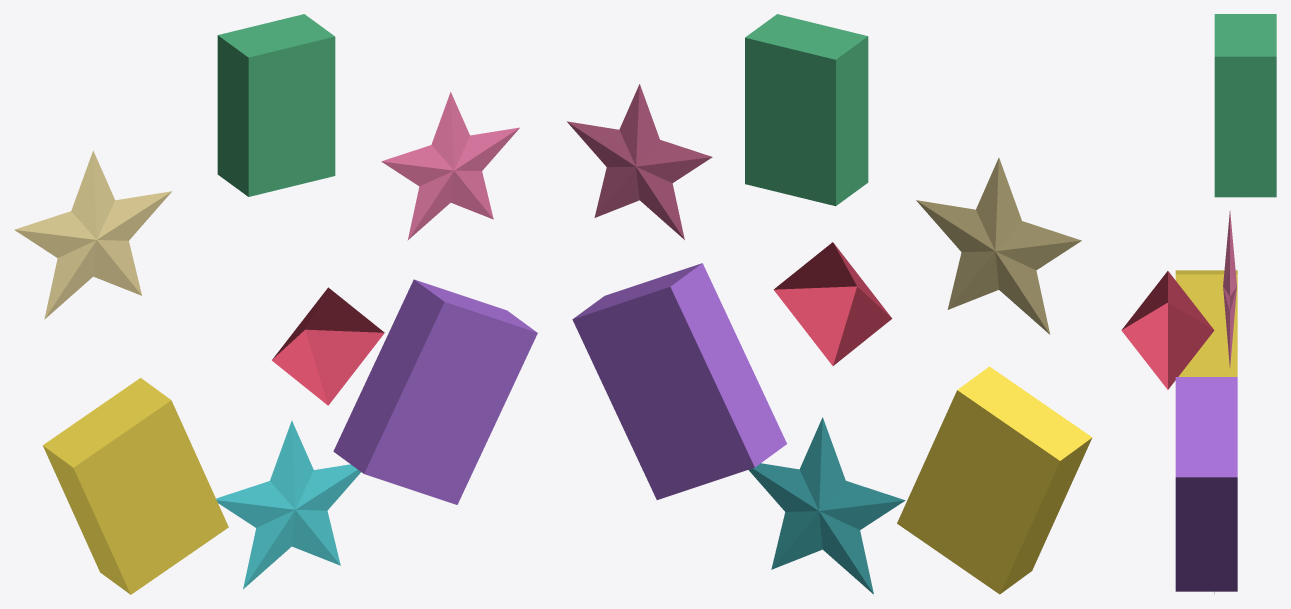
Rendered from minglora_confetti.gltf.
3 views of the same model, side by side, from view 1: azimuth 30°, elevation 25°; view 2: azimuth 150°, elevation 25°; view 3: azimuth 270°, elevation 25° (orthographic). The views are drawn at different scales.
Parts seen in each view (by area): view 1: minglora_confetti4, minglora_confetti3, minglora_confetti5, minglora_confetti0, minglora_confetti2, minglora_confetti1, minglora_confetti6; view 2: minglora_confetti4, minglora_confetti3, minglora_confetti5, minglora_confetti0, minglora_confetti2, minglora_confetti1, minglora_confetti6; view 3: minglora_confetti4, minglora_confetti5, minglora_confetti6, minglora_confetti3, minglora_confetti1.
Boxes of the visible parts, bbox=[...] form: minglora_confetti4: bbox=[333, 279, 537, 504]; minglora_confetti3: bbox=[43, 378, 228, 594]; minglora_confetti5: bbox=[217, 14, 335, 196]; minglora_confetti0: bbox=[14, 150, 171, 319]; minglora_confetti2: bbox=[216, 420, 360, 589]; minglora_confetti1: bbox=[381, 92, 519, 240]; minglora_confetti6: bbox=[272, 287, 384, 405]; minglora_confetti4: bbox=[572, 263, 786, 499]; minglora_confetti3: bbox=[897, 366, 1092, 594]; minglora_confetti5: bbox=[745, 14, 868, 206]; minglora_confetti0: bbox=[916, 157, 1081, 334]; minglora_confetti2: bbox=[748, 417, 905, 594]; minglora_confetti1: bbox=[567, 84, 712, 239]; minglora_confetti6: bbox=[773, 242, 892, 365]; minglora_confetti4: bbox=[1175, 377, 1237, 591]; minglora_confetti5: bbox=[1214, 14, 1276, 197]; minglora_confetti6: bbox=[1121, 271, 1214, 389]; minglora_confetti3: bbox=[1175, 270, 1237, 376]; minglora_confetti1: bbox=[1223, 210, 1236, 368].
Size of the model in its own units: 1.5 by 1.52 by 0.4.
